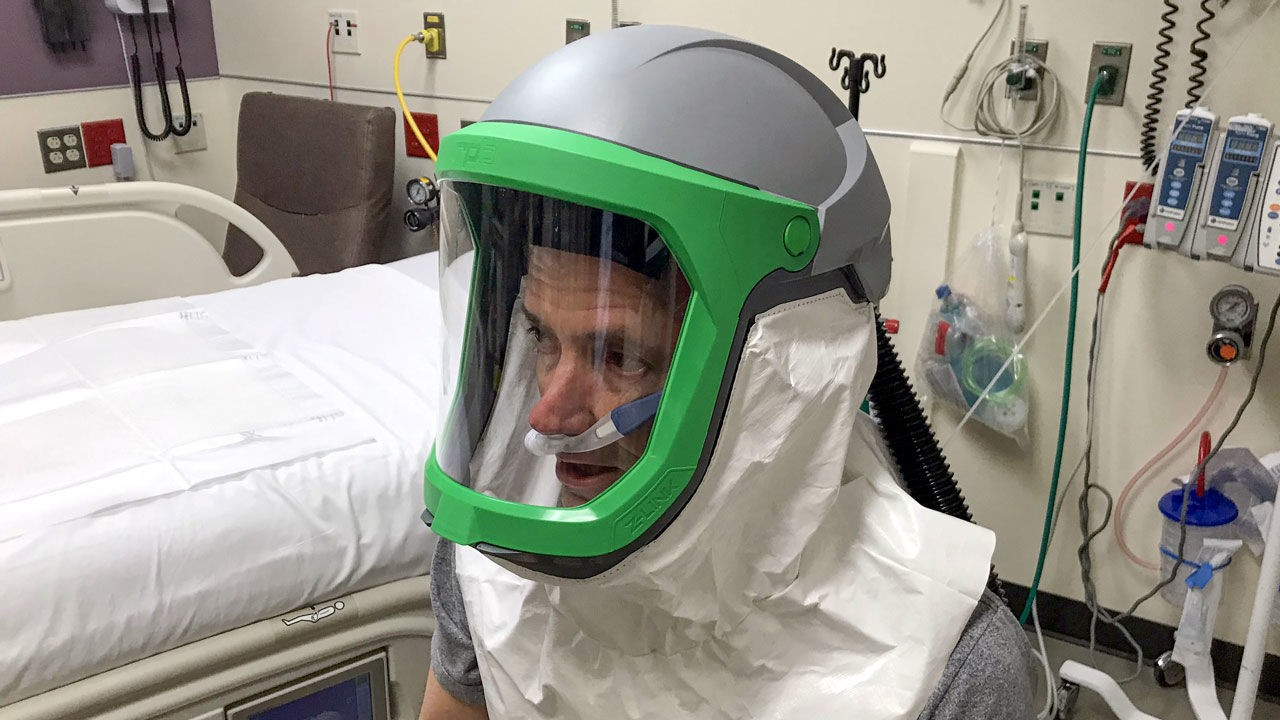Face_Shield: (399, 20, 899, 590)
